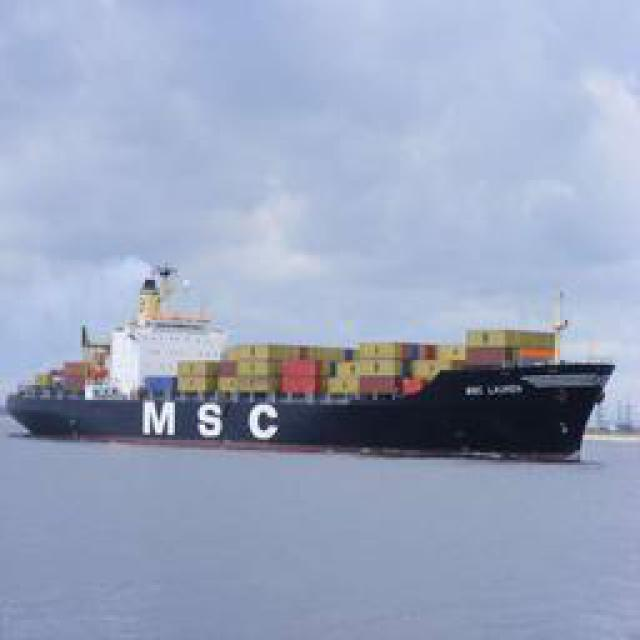Ship: (7, 275, 620, 453)
